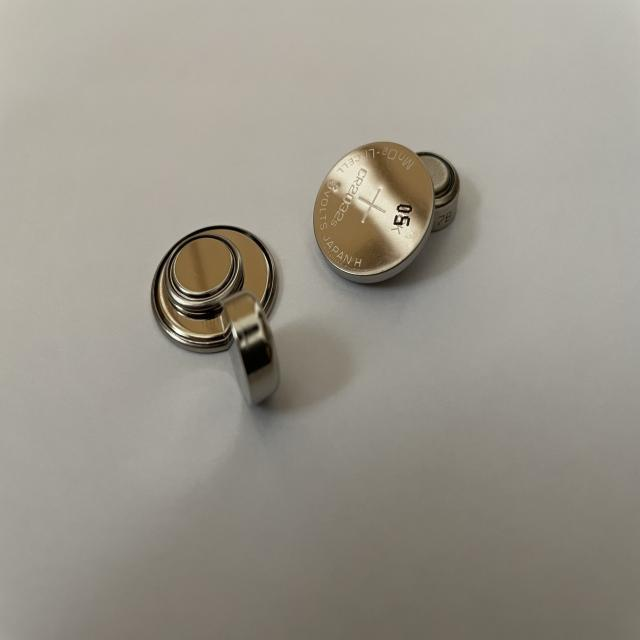COIN: (312, 140, 434, 290), (148, 222, 280, 354), (218, 294, 286, 411), (166, 232, 244, 320), (400, 150, 465, 232)
